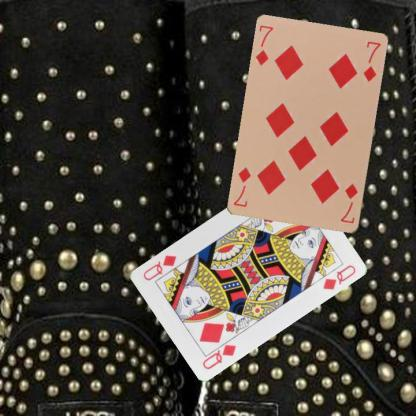7d: (338, 181, 360, 225), (253, 23, 275, 67)
Qd: (200, 334, 237, 370)
